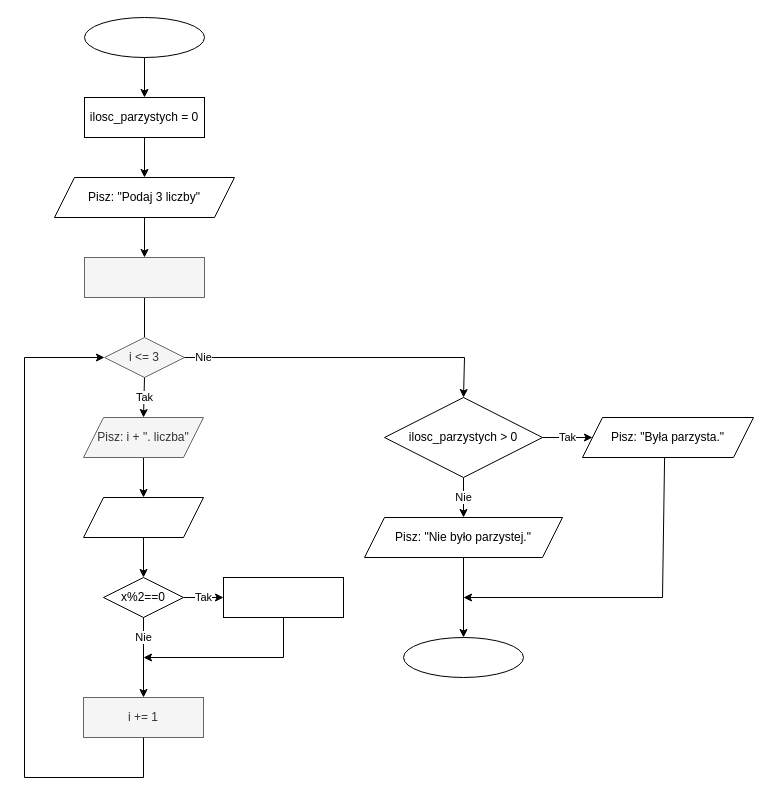
Image size: 771x803. Some labels were removed from this diagram. The centre of each missing label's shape, as x and y in pixels:
"i = 1" belongs at point (144, 277).
"ilosc_parzystych += 1" belongs at point (283, 597).
"Podaj: x" belongs at point (143, 517).
"START" belongs at point (144, 37).
"STOP" belongs at point (463, 657).
